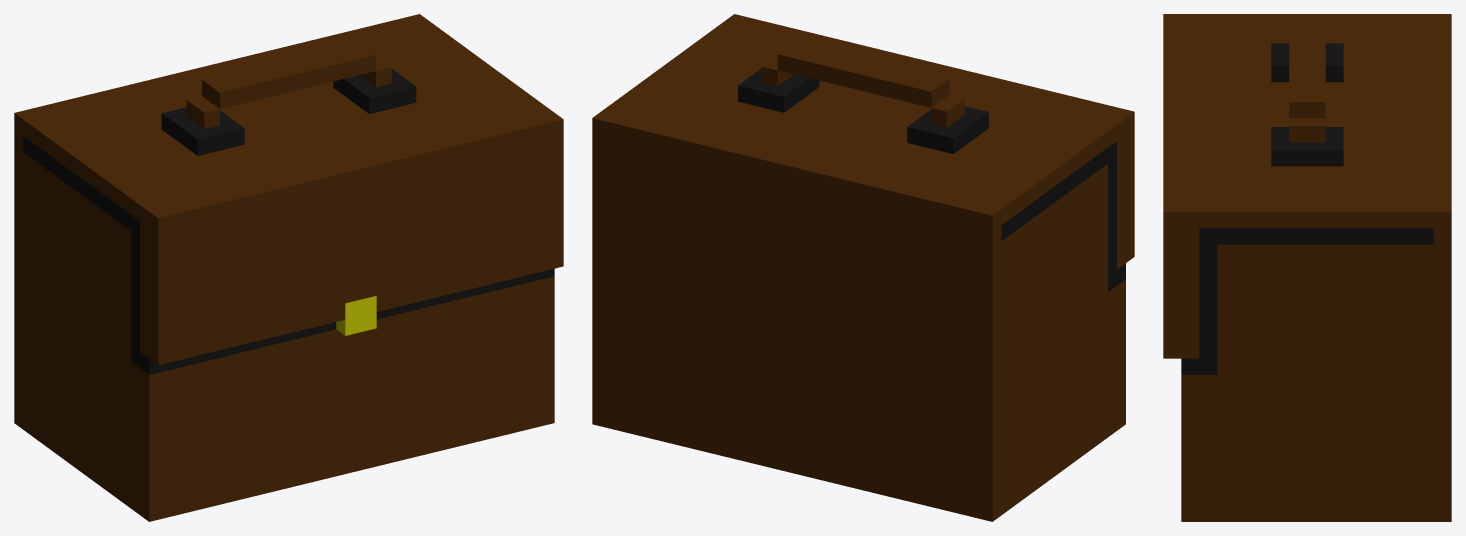
Rendered from AmmoBag.obj.
3 renders of one model, left to right at view 1: azimuth 30°, elevation 25°; view 2: azimuth 150°, elevation 25°; view 3: azimuth 270°, elevation 25°, orthographic.
Size of the model in its own units: 2.6 by 2.2 by 1.6.
1 material, 1 textured.
